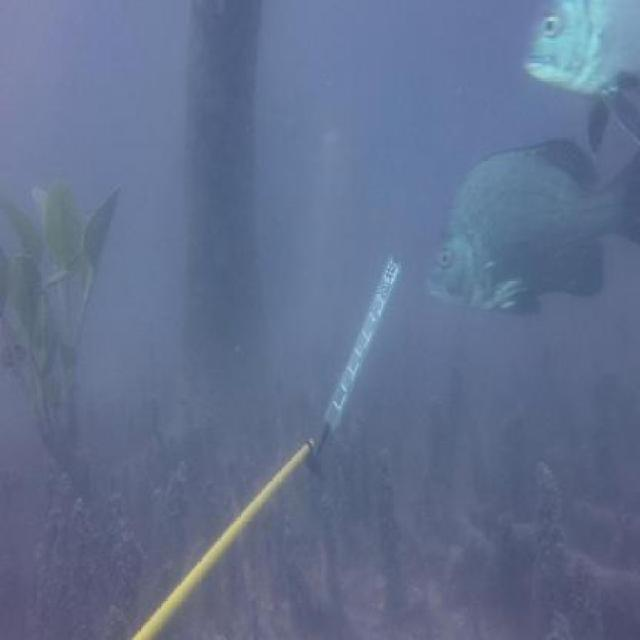acanthopagrus_palmaris: (423, 139, 640, 326), (520, 0, 640, 155)
